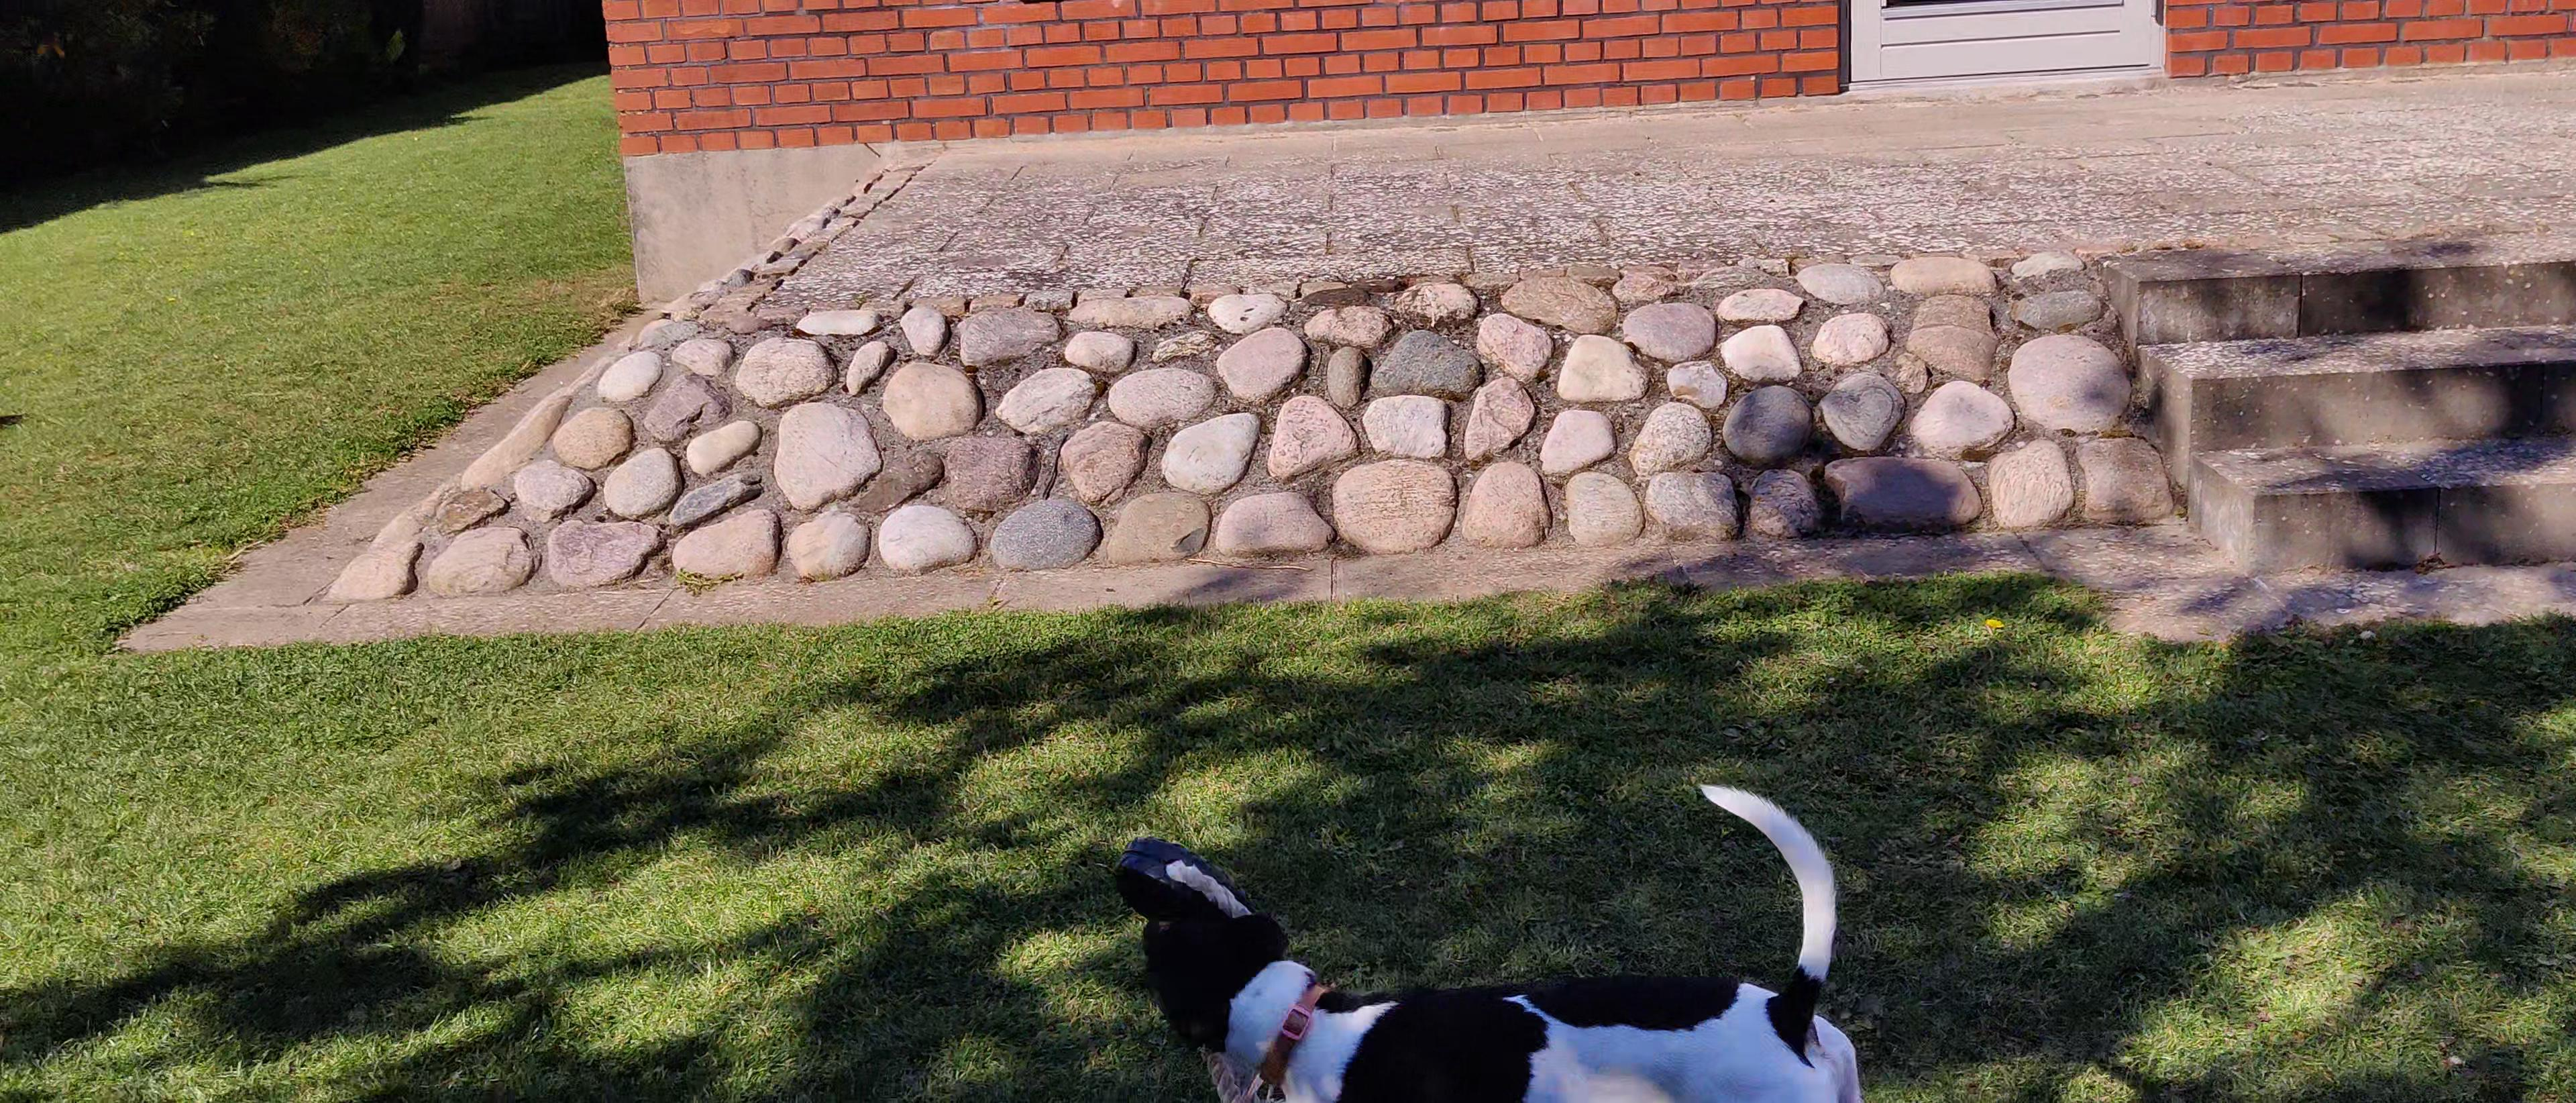Dog: (1122, 773, 1888, 1103)
